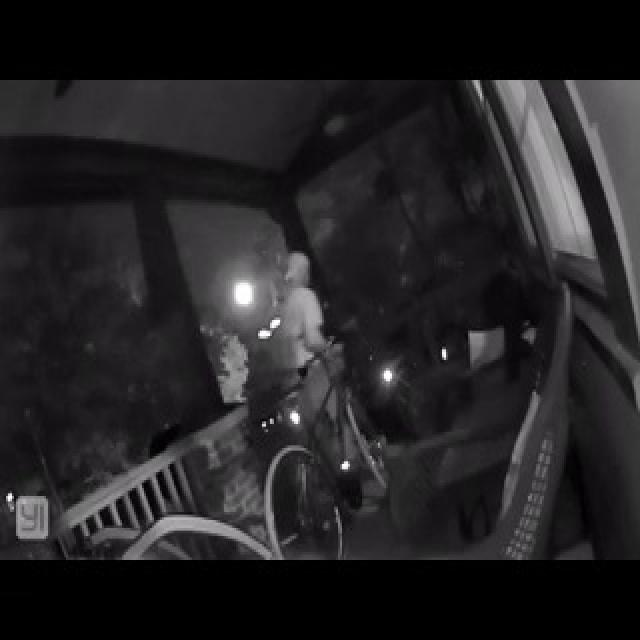thief: (242, 257, 396, 460)
